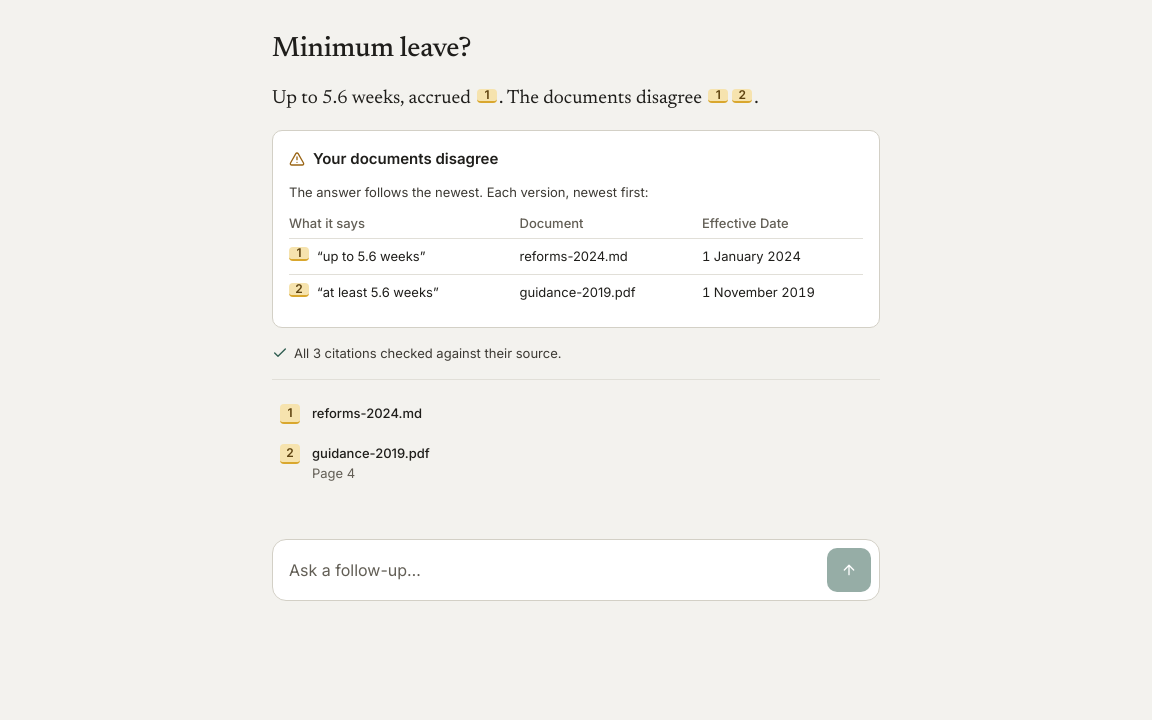
Test: Conversation › shows a notice when the documents disagree, newest first, each opening its source
The image size is (1152, 720).
What coordinates should you click on to do the following:
click the button named "Source 2, guidance-2019.pdf, page 4"
I would click on:
 (299, 290)
Its box is [289,283,309,297].
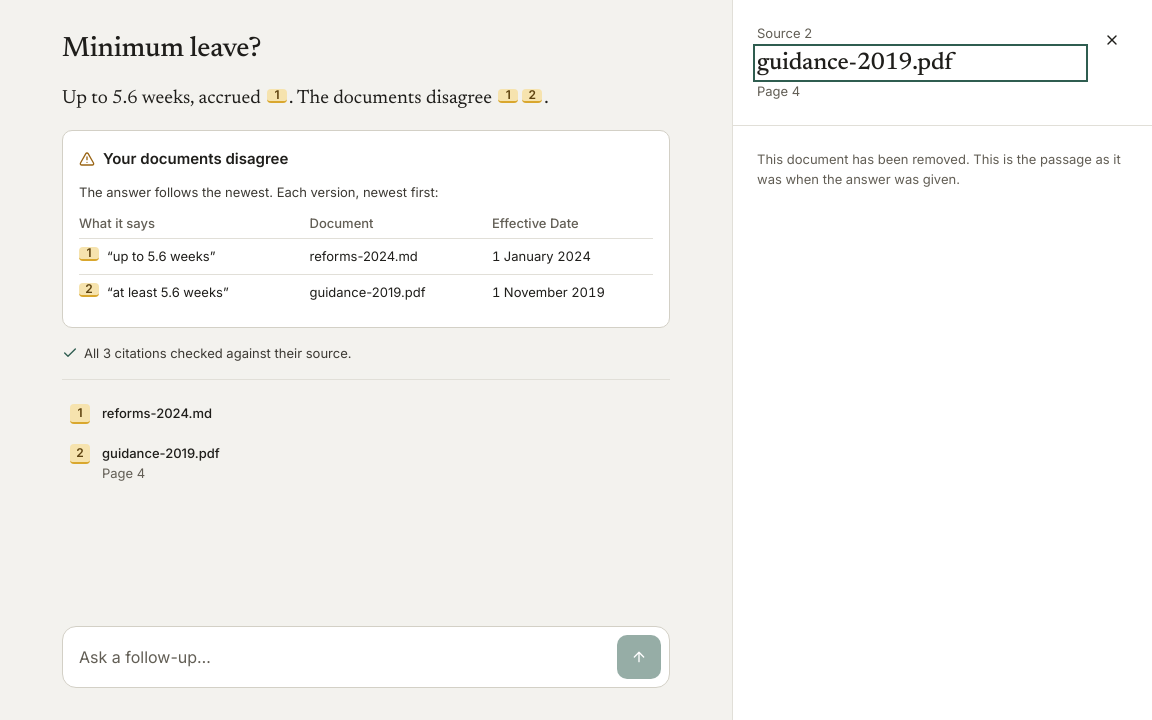
Expected: the element "Source" is shown, [732,0,1151,719]
